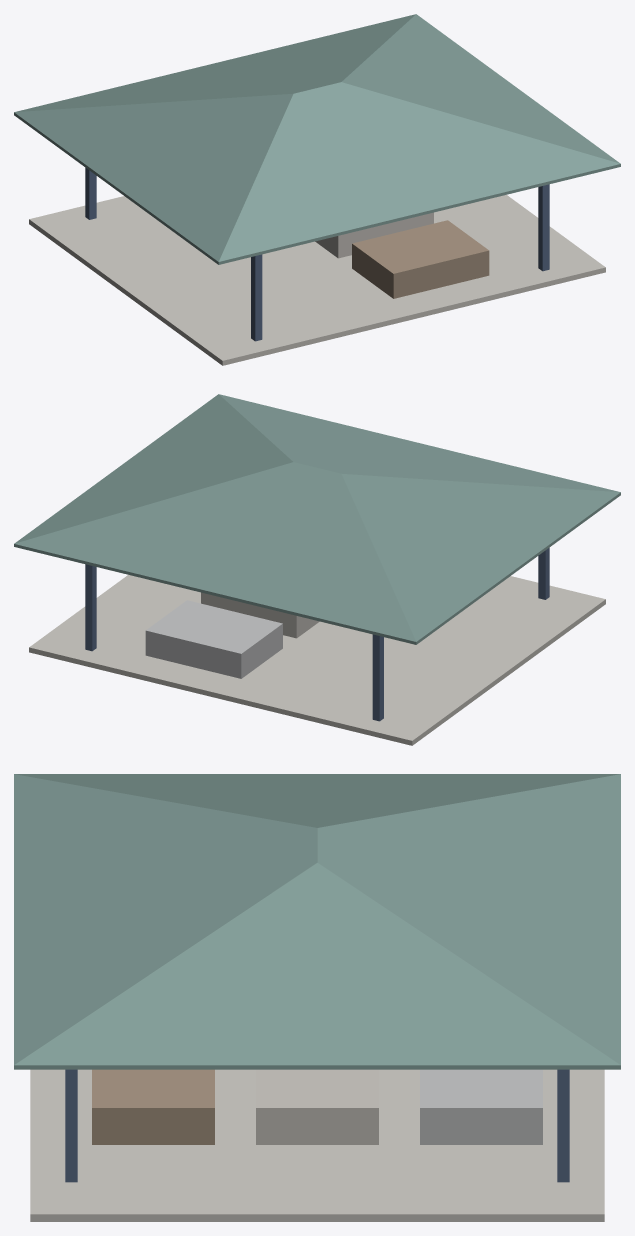
Rendered from 12_food_market-09.glb.
3 views of the same model, one above another, from view 1: azimuth 30°, elevation 25°; view 2: azimuth 150°, elevation 25°; view 3: azimuth 270°, elevation 25° (orthographic). The views are drawn at different scales.
Bounding box in the file's own units: 16.8 × 6.4 × 14.8.
